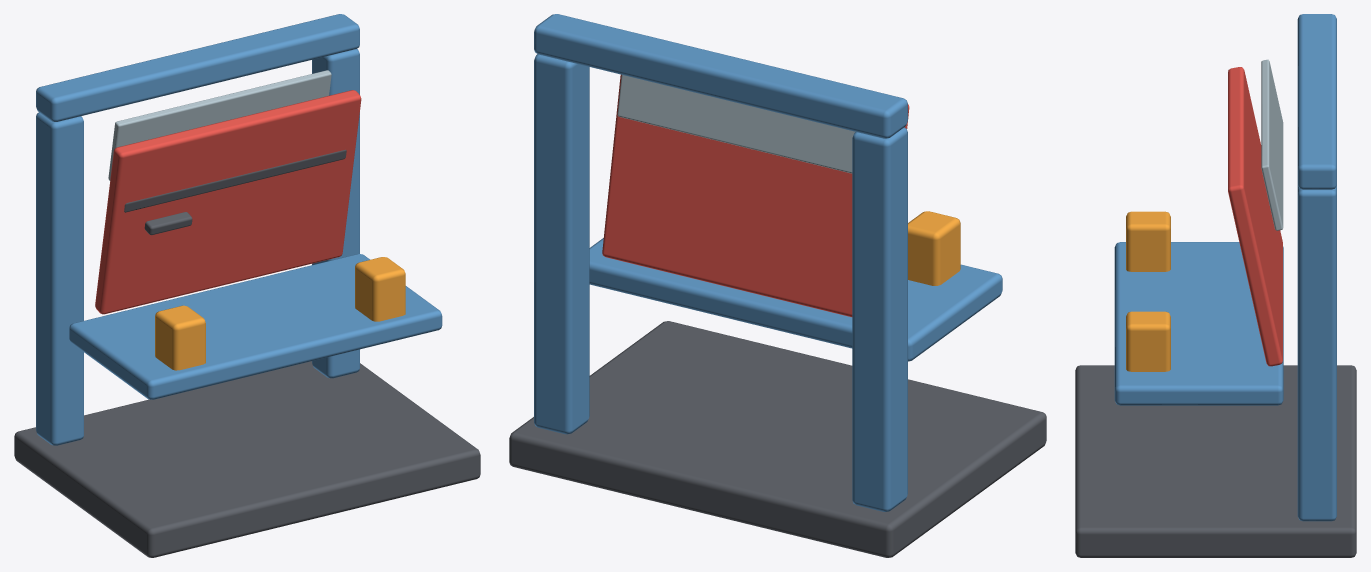
File: door-removal-fixture.glb
3 views of the same model, side by side, from view 1: azimuth 30°, elevation 25°; view 2: azimuth 150°, elevation 25°; view 3: azimuth 270°, elevation 25° (orthographic). The views are drawn at different scales.
Visible parts, largest first — view 1: door-removal-fixture; view 2: door-removal-fixture; view 3: door-removal-fixture.
Boxes of the visible parts, x1,y1,x2,y2 form: door-removal-fixture: [14, 14, 480, 557]; door-removal-fixture: [509, 14, 1046, 557]; door-removal-fixture: [1075, 14, 1356, 557].
Bounding box in the file's own units: 1.4 × 1.52 × 1.
